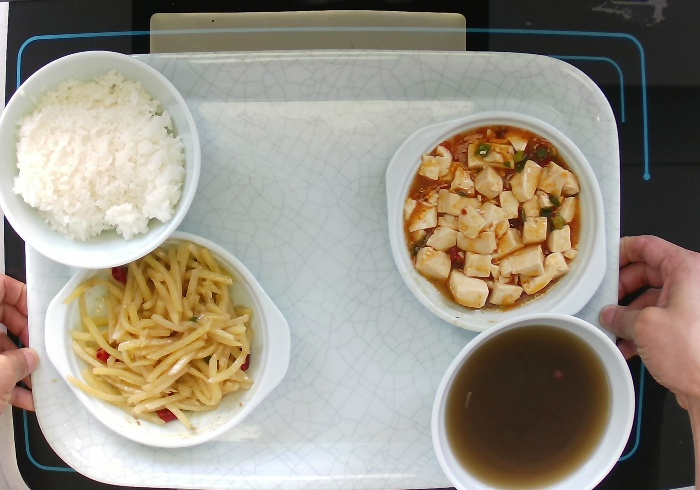JYsf-Fan_Wan: (1, 49, 203, 271), (429, 310, 637, 490)
JYsf-Shuang_Er_Pan: (42, 228, 293, 449), (383, 108, 609, 334)
